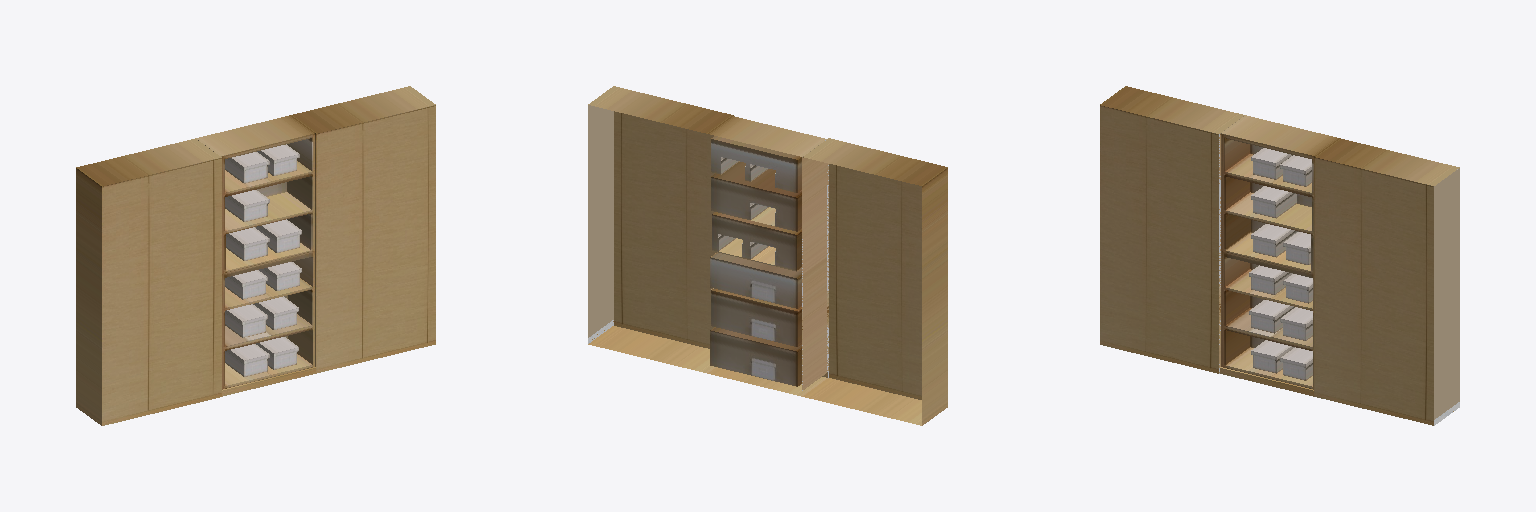
The picture shows the model from 3 angles: view 1: azimuth 30°, elevation 25°; view 2: azimuth 150°, elevation 25°; view 3: azimuth 330°, elevation 25°; orthographic projection.
Parts seen in each view (by area): view 1: Mesh1 Model, Mesh7 Model, Mesh4 Model, Mesh5 Model, Mesh3 Model, Mesh6 Model, Mesh2 Model; view 2: Mesh1 Model; view 3: Mesh1 Model, Mesh4 Model, Mesh7 Model, Mesh5 Model, Mesh6 Model, Mesh3 Model, Mesh2 Model.
Part boxes in pixels (x1,y1,x2,y2): Mesh1 Model: (76, 86, 435, 425); Mesh7 Model: (225, 344, 269, 376); Mesh4 Model: (225, 304, 267, 337); Mesh5 Model: (253, 296, 298, 329); Mesh3 Model: (225, 270, 267, 299); Mesh6 Model: (256, 337, 298, 369); Mesh2 Model: (259, 262, 301, 290); Mesh1 Model: (588, 86, 947, 425); Mesh1 Model: (1100, 86, 1459, 425); Mesh4 Model: (1249, 300, 1294, 333); Mesh7 Model: (1251, 340, 1294, 373); Mesh5 Model: (1280, 307, 1312, 340); Mesh6 Model: (1280, 347, 1312, 380); Mesh3 Model: (1249, 265, 1292, 294); Mesh2 Model: (1283, 274, 1312, 303).
Size of the model in its own units: 358 by 245 by 49.2.
3 materials, 1 textured.